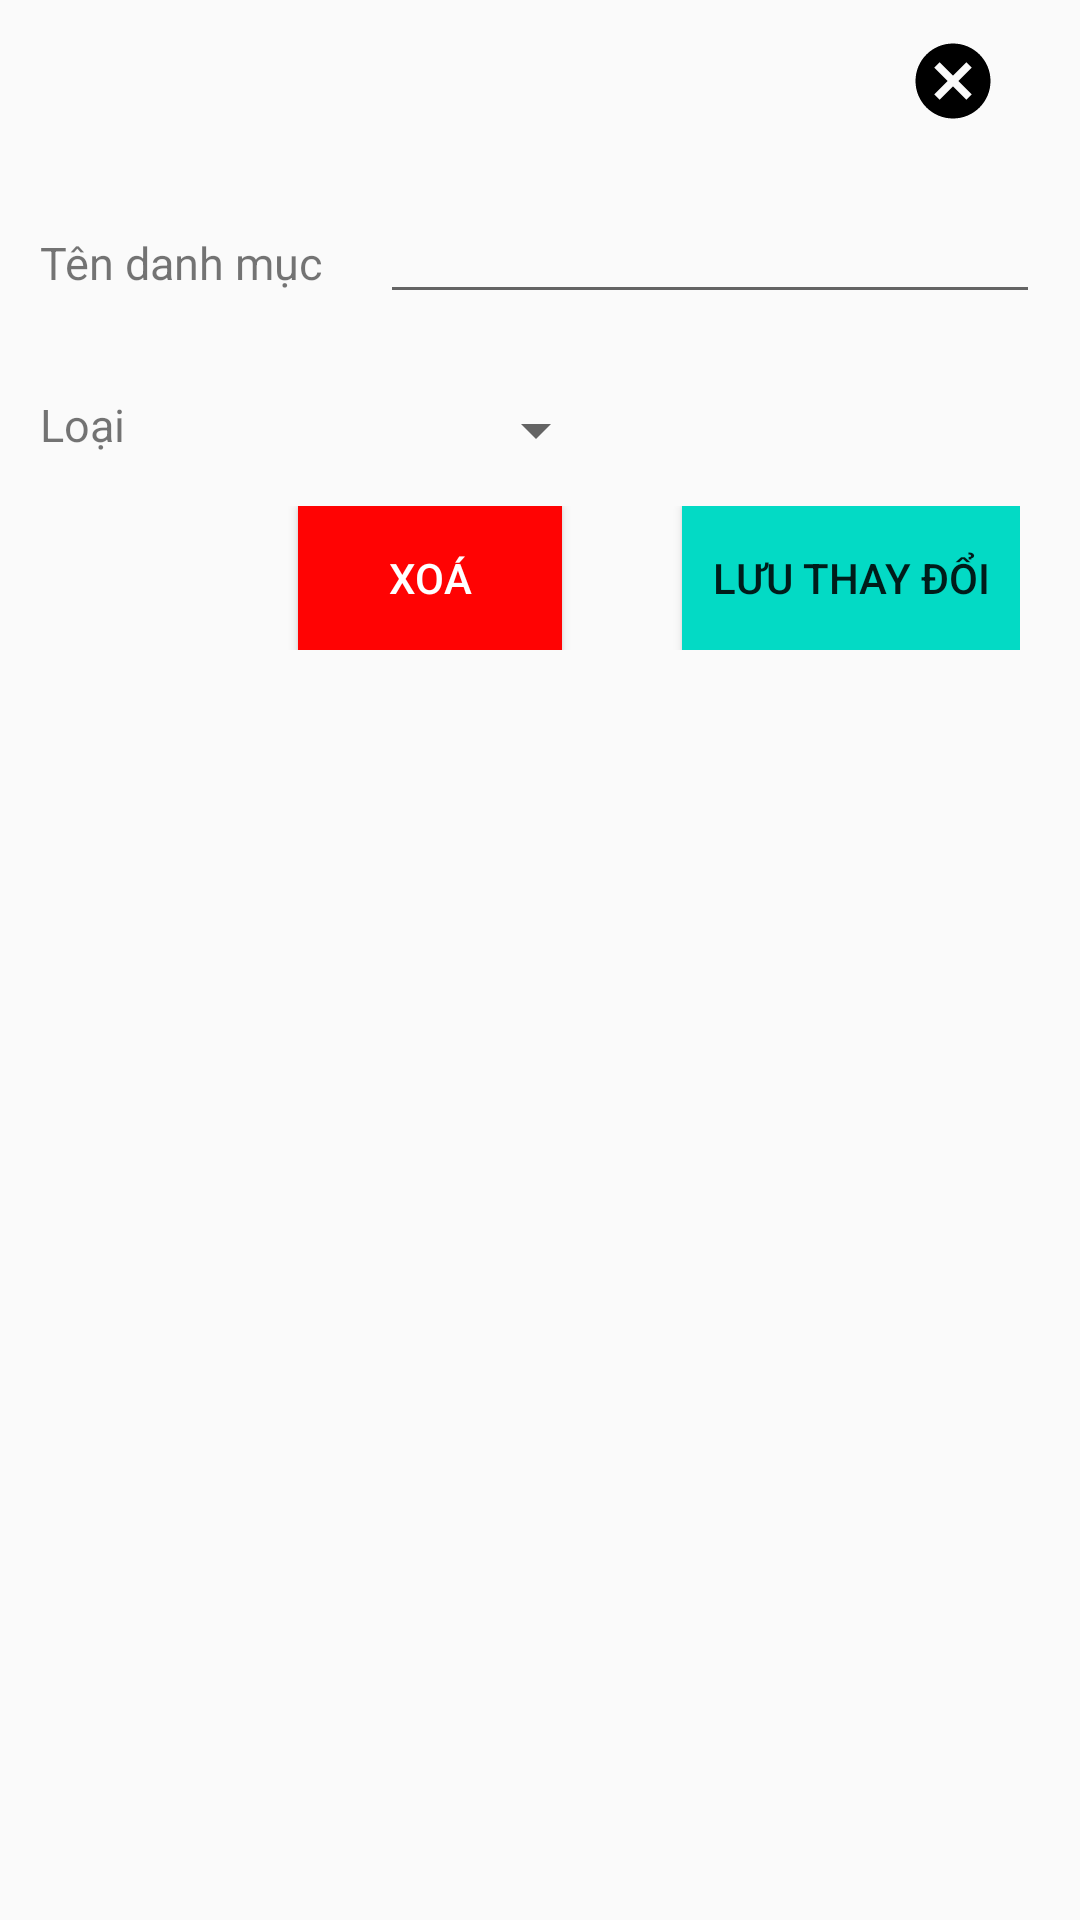

Screen size 1080×1920. Icon name, then its box in pixels as (x1=x1, y1=y1, x2=x2, y2=y2):
cancel: (x1=915, y1=43, x2=991, y2=119)
